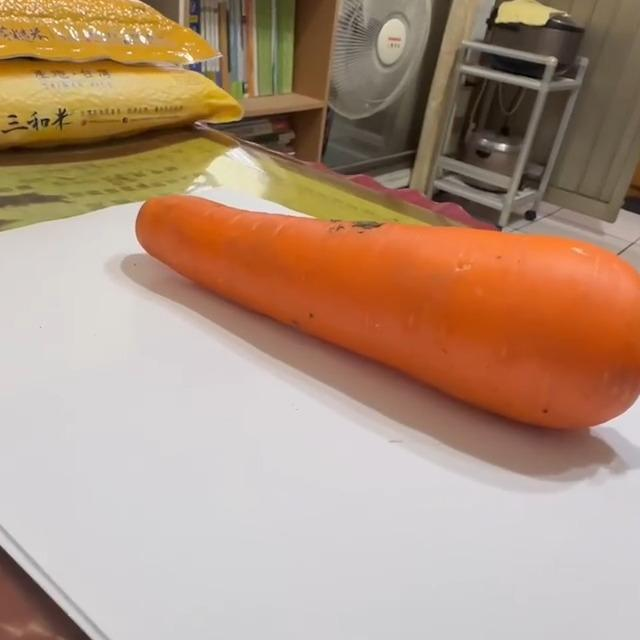carrot: (132, 192, 640, 434)
